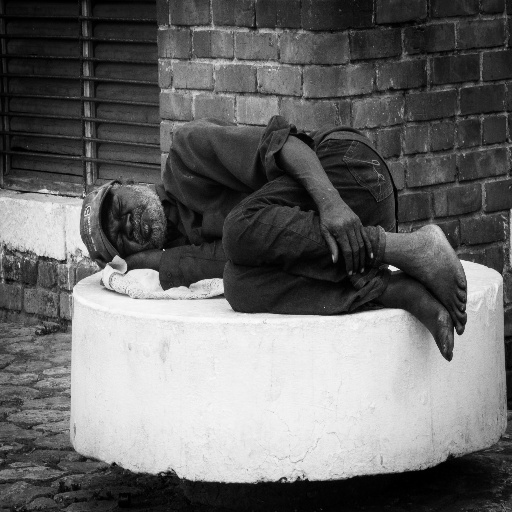hand: (328, 188, 370, 275), (93, 248, 155, 273)
